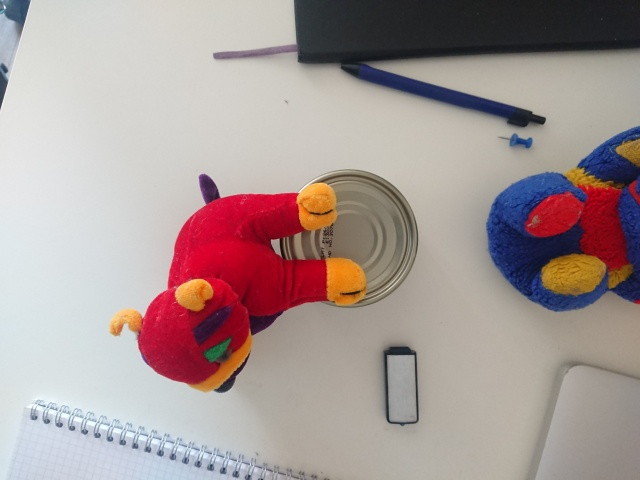Giana Tuna Salad Mexico 185g: (276, 166, 421, 312)
